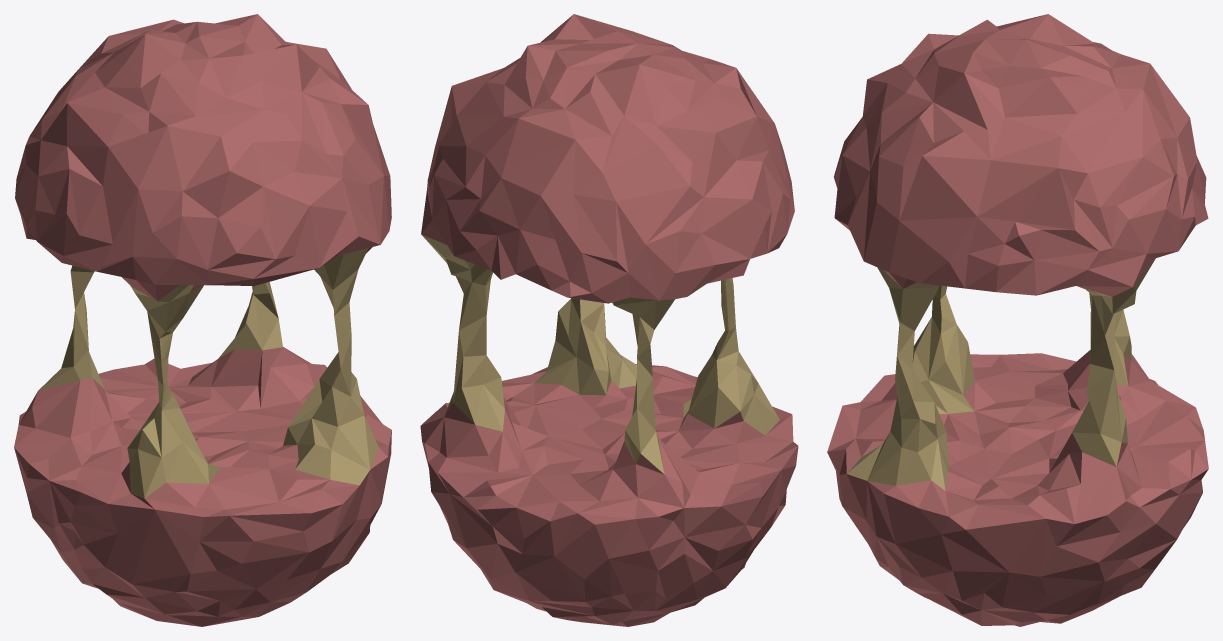
Rendered from Planet_scattered.fbx.
The picture shows the model from 3 angles, left to right: view 1: azimuth 30°, elevation 25°; view 2: azimuth 150°, elevation 25°; view 3: azimuth 270°, elevation 25°; orthographic projection.
Visible parts, largest first — view 1: ScatteredPlanet2; view 2: ScatteredPlanet2; view 3: ScatteredPlanet2.
Boxes of the visible parts, x1,y1,x2,y2 form: ScatteredPlanet2: (14,14,391,626); ScatteredPlanet2: (420,14,798,626); ScatteredPlanet2: (827,14,1208,626).
Size of the model in its own units: 70.77 by 117 by 70.72.
